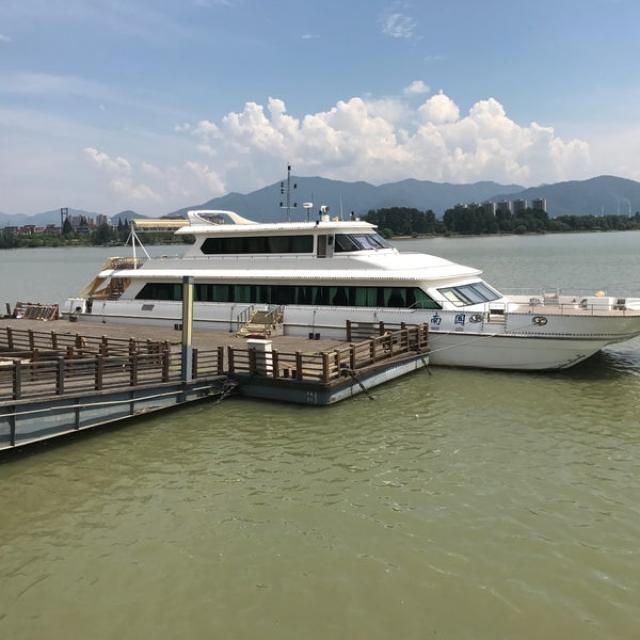houseboat: (66, 196, 640, 377)
